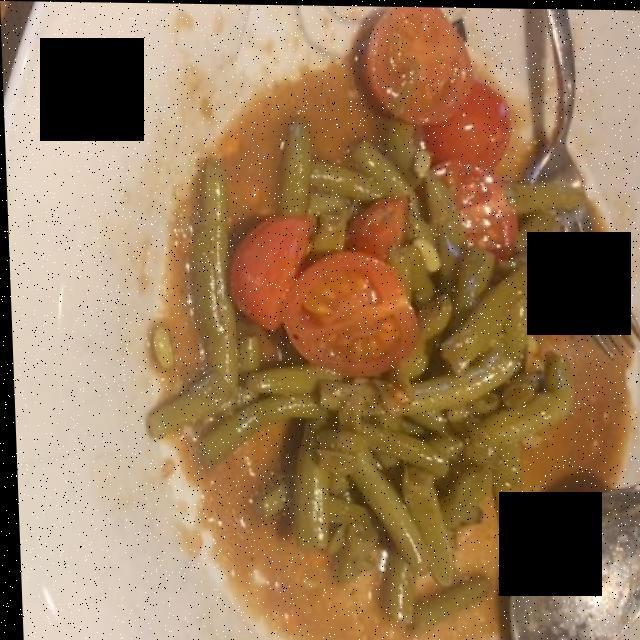salad: (154, 34, 624, 625)
tomato: (149, 9, 578, 619)
